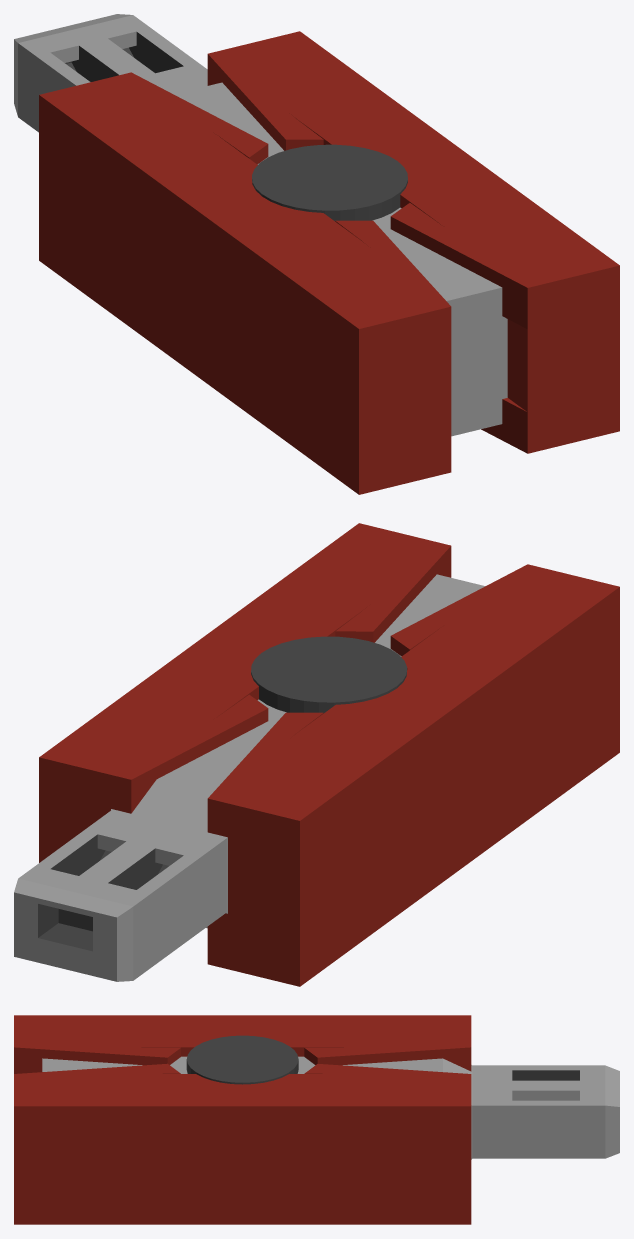
File: FlashDriveMod1.fbx
3 renders of one model, top to bottom at view 1: azimuth 30°, elevation 25°; view 2: azimuth 150°, elevation 25°; view 3: azimuth 270°, elevation 25°, orthographic. The views are drawn at different scales.
Parts seen in each view (by area): view 1: Cube, Cube.001, Cylinder; view 2: Cube, Cube.001, Cylinder; view 3: Cube, Cube.001, Cylinder.
Boxes of the visible parts, x1,y1,x2,y2 form: Cube: [39, 31, 619, 494]; Cube.001: [14, 14, 507, 436]; Cylinder: [252, 144, 407, 221]; Cube: [39, 523, 619, 986]; Cube.001: [14, 574, 484, 981]; Cylinder: [251, 636, 407, 713]; Cube: [14, 1015, 471, 1224]; Cube.001: [42, 1056, 619, 1159]; Cylinder: [186, 1035, 298, 1084].
Bounding box in the file's own units: 165 × 105 × 463.
